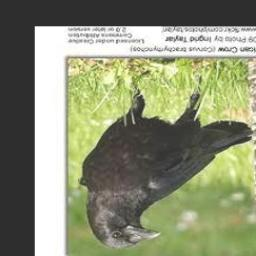Crow: (78, 58, 255, 251)
